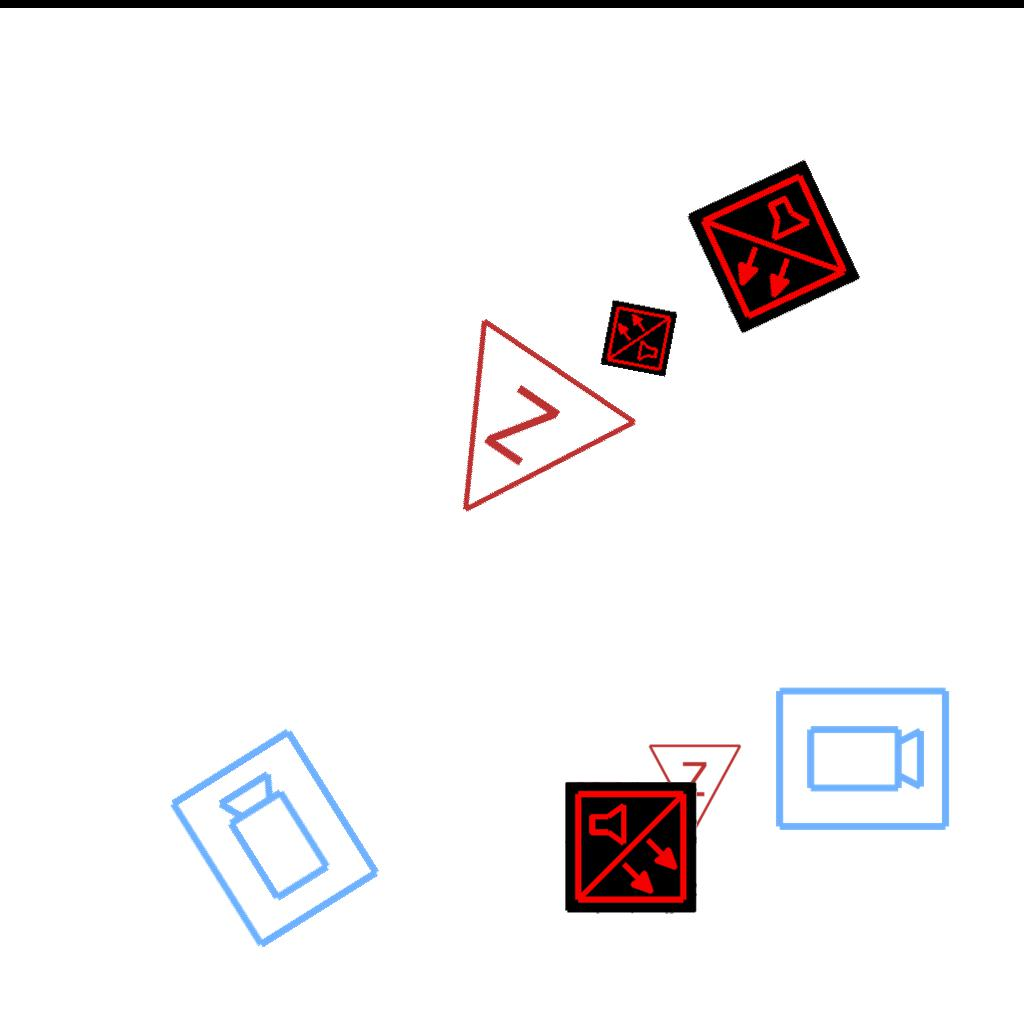KFO_Kamera_mit_Festobjektiv: (162, 720, 390, 956), (771, 683, 953, 837)
OKW_Multisensormelder_(Kombination_optischer_Rauch-Kahlenmonoxid_Waerme-Melder): (685, 159, 861, 335), (565, 782, 697, 914), (600, 299, 678, 377), (565, 781, 631, 847)
Zimmersignalleuchte: (377, 303, 653, 579), (647, 737, 745, 837)
